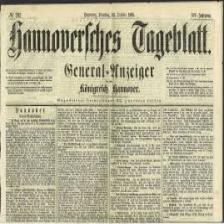paper: (0, 4, 224, 224)
